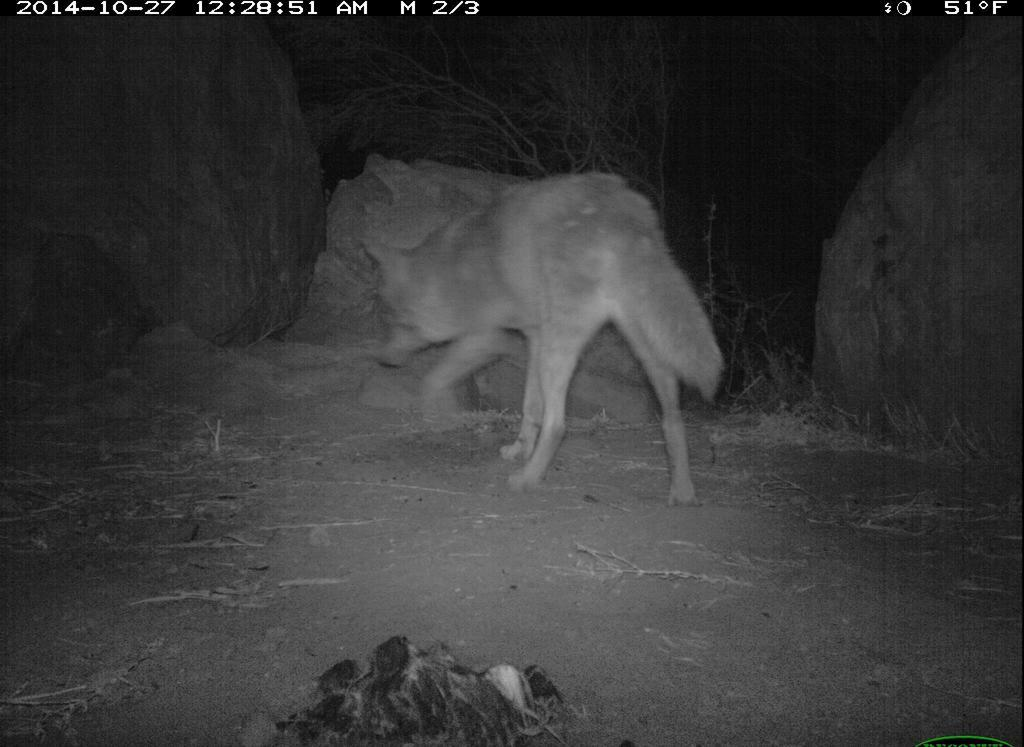coyote: (341, 162, 774, 525)
